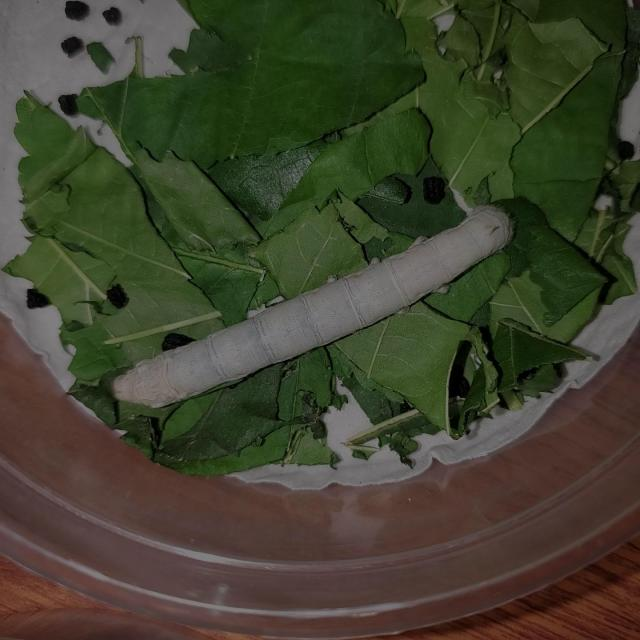Healthy: (92, 174, 546, 436)
